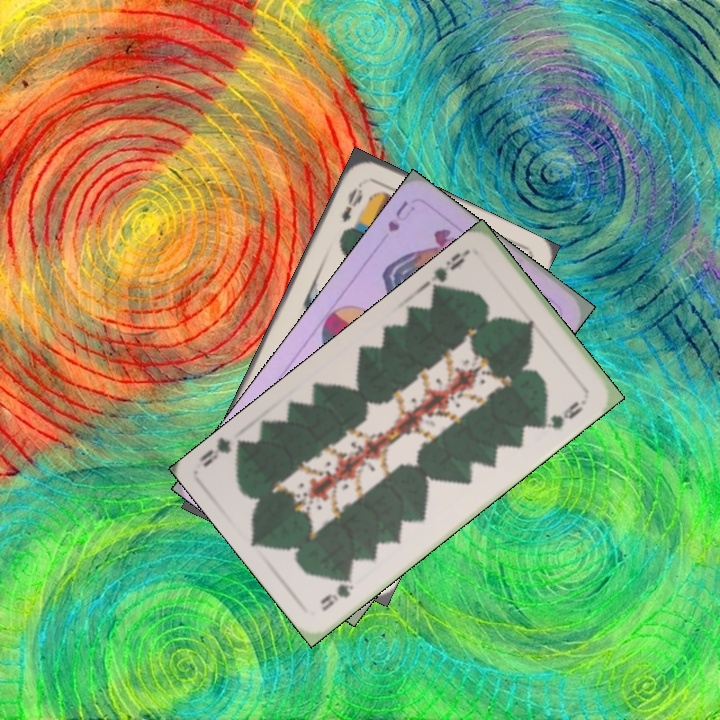EO: (337, 183, 366, 225)
G9: (423, 245, 473, 291), (315, 571, 356, 614)
SU: (383, 197, 418, 235)
